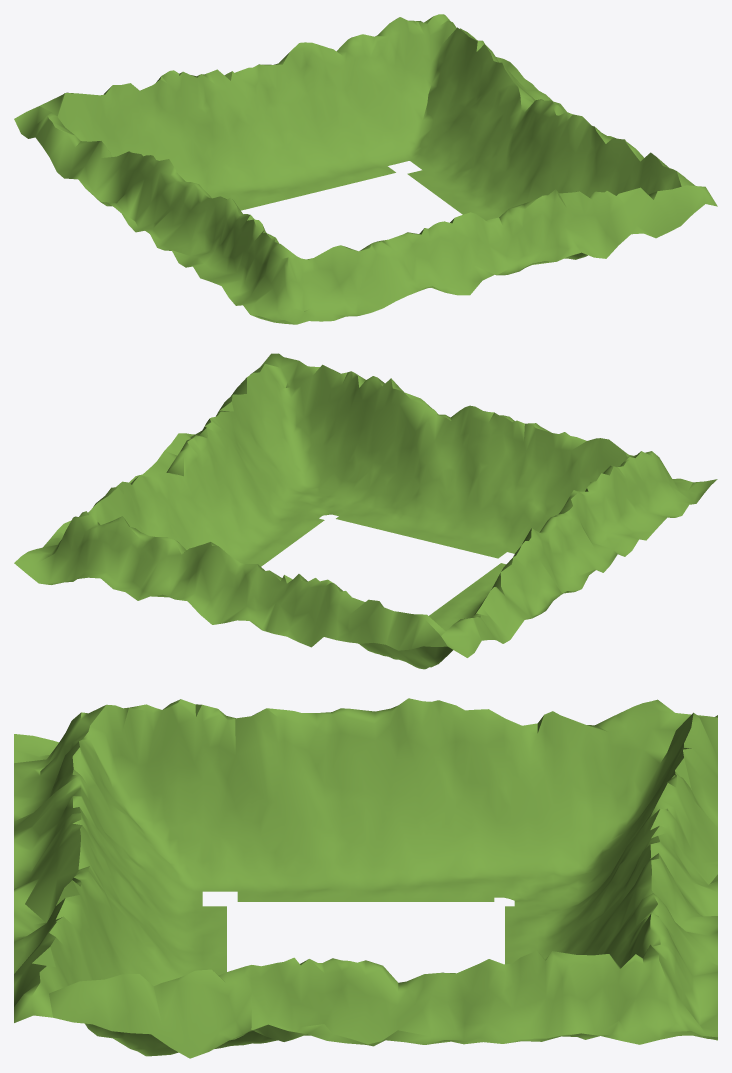
Rendered from valley_terrain.glb.
3 renders of one model, top to bottom at view 1: azimuth 30°, elevation 25°; view 2: azimuth 150°, elevation 25°; view 3: azimuth 270°, elevation 25°, orthographic. The views are drawn at different scales.
Visible parts, largest first — view 1: valley_terrain; view 2: valley_terrain; view 3: valley_terrain.
Part boxes in pixels (x1,y1,x2,y2): valley_terrain: (14,14,717,324); valley_terrain: (14,353,717,669); valley_terrain: (14,698,717,1058).
Size of the model in its own units: 216 by 49.05 by 216.
Materials: 1 (1 with a texture image).
